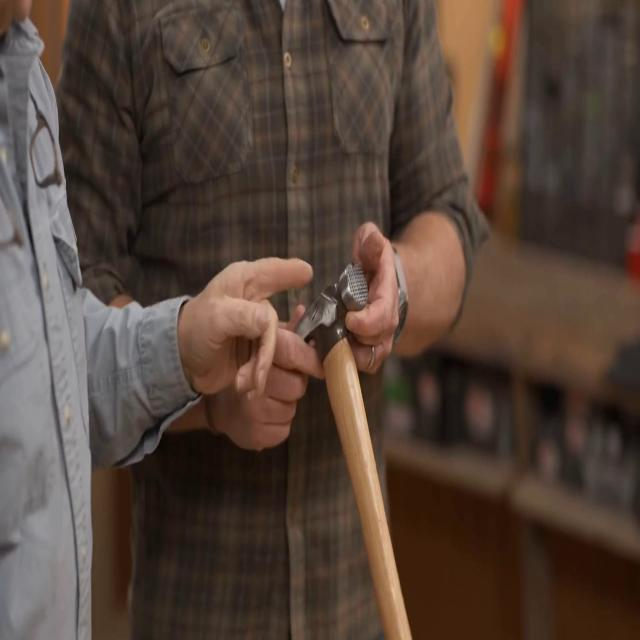hammer: (292, 258, 412, 640)
